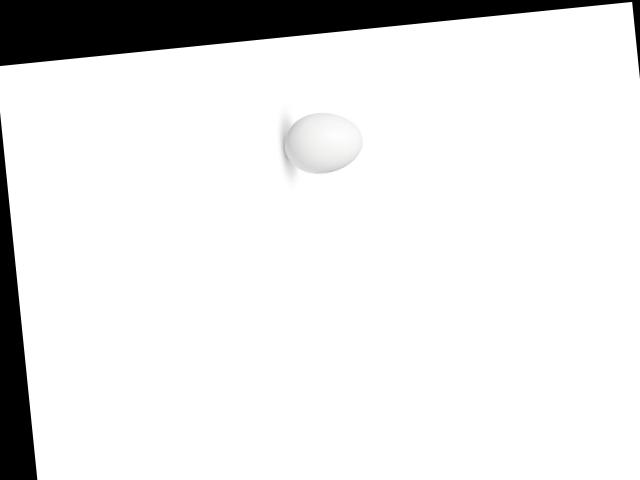egg: (282, 108, 366, 175)
